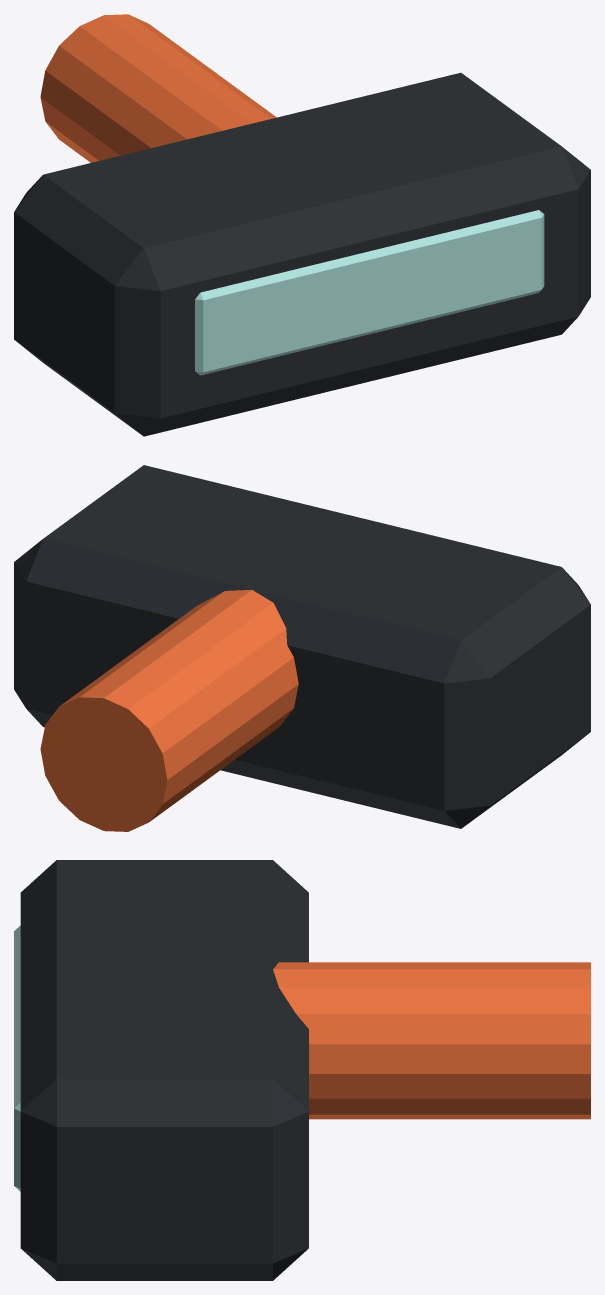
The model's file is nozzle.glb.
The picture shows the model from 3 angles, top to bottom: view 1: azimuth 30°, elevation 25°; view 2: azimuth 150°, elevation 25°; view 3: azimuth 270°, elevation 25°; orthographic projection. The views are drawn at different scales.
Visible parts, largest first — view 1: head, mouth, neck; view 2: head, neck; view 3: head, neck, mouth.
Part boxes in pixels (x1,y1,x2,y2): head: (14,72,590,436); mouth: (195,210,544,375); neck: (40,14,276,162); head: (14,465,590,828); neck: (40,589,298,831); head: (20,860,308,1280); neck: (273,962,590,1119); mouth: (14,925,20,1191).
Bounding box in the file's own units: 0.9 × 0.34 × 0.88.
